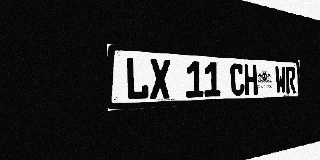1: (185, 61, 204, 98), (204, 62, 220, 97)
C: (230, 63, 245, 96)
H: (244, 64, 257, 95)
L: (125, 57, 149, 100)
R: (285, 66, 296, 93)
W: (275, 66, 286, 94)
X: (149, 58, 171, 99)
